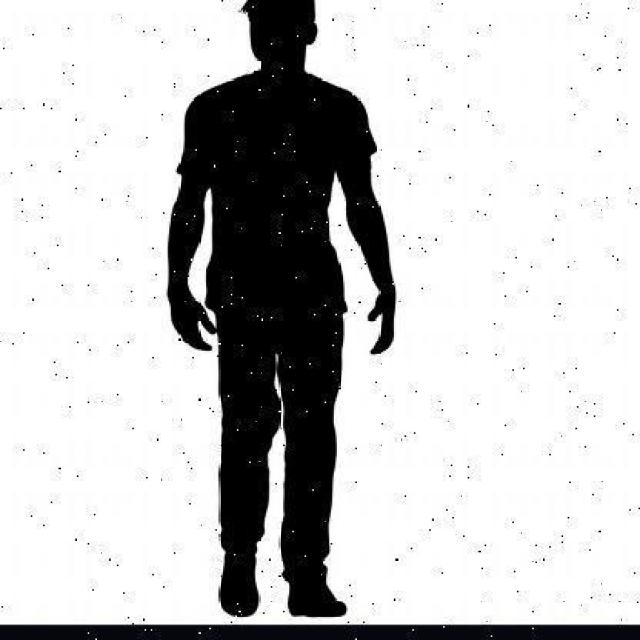person: (169, 0, 394, 620)
